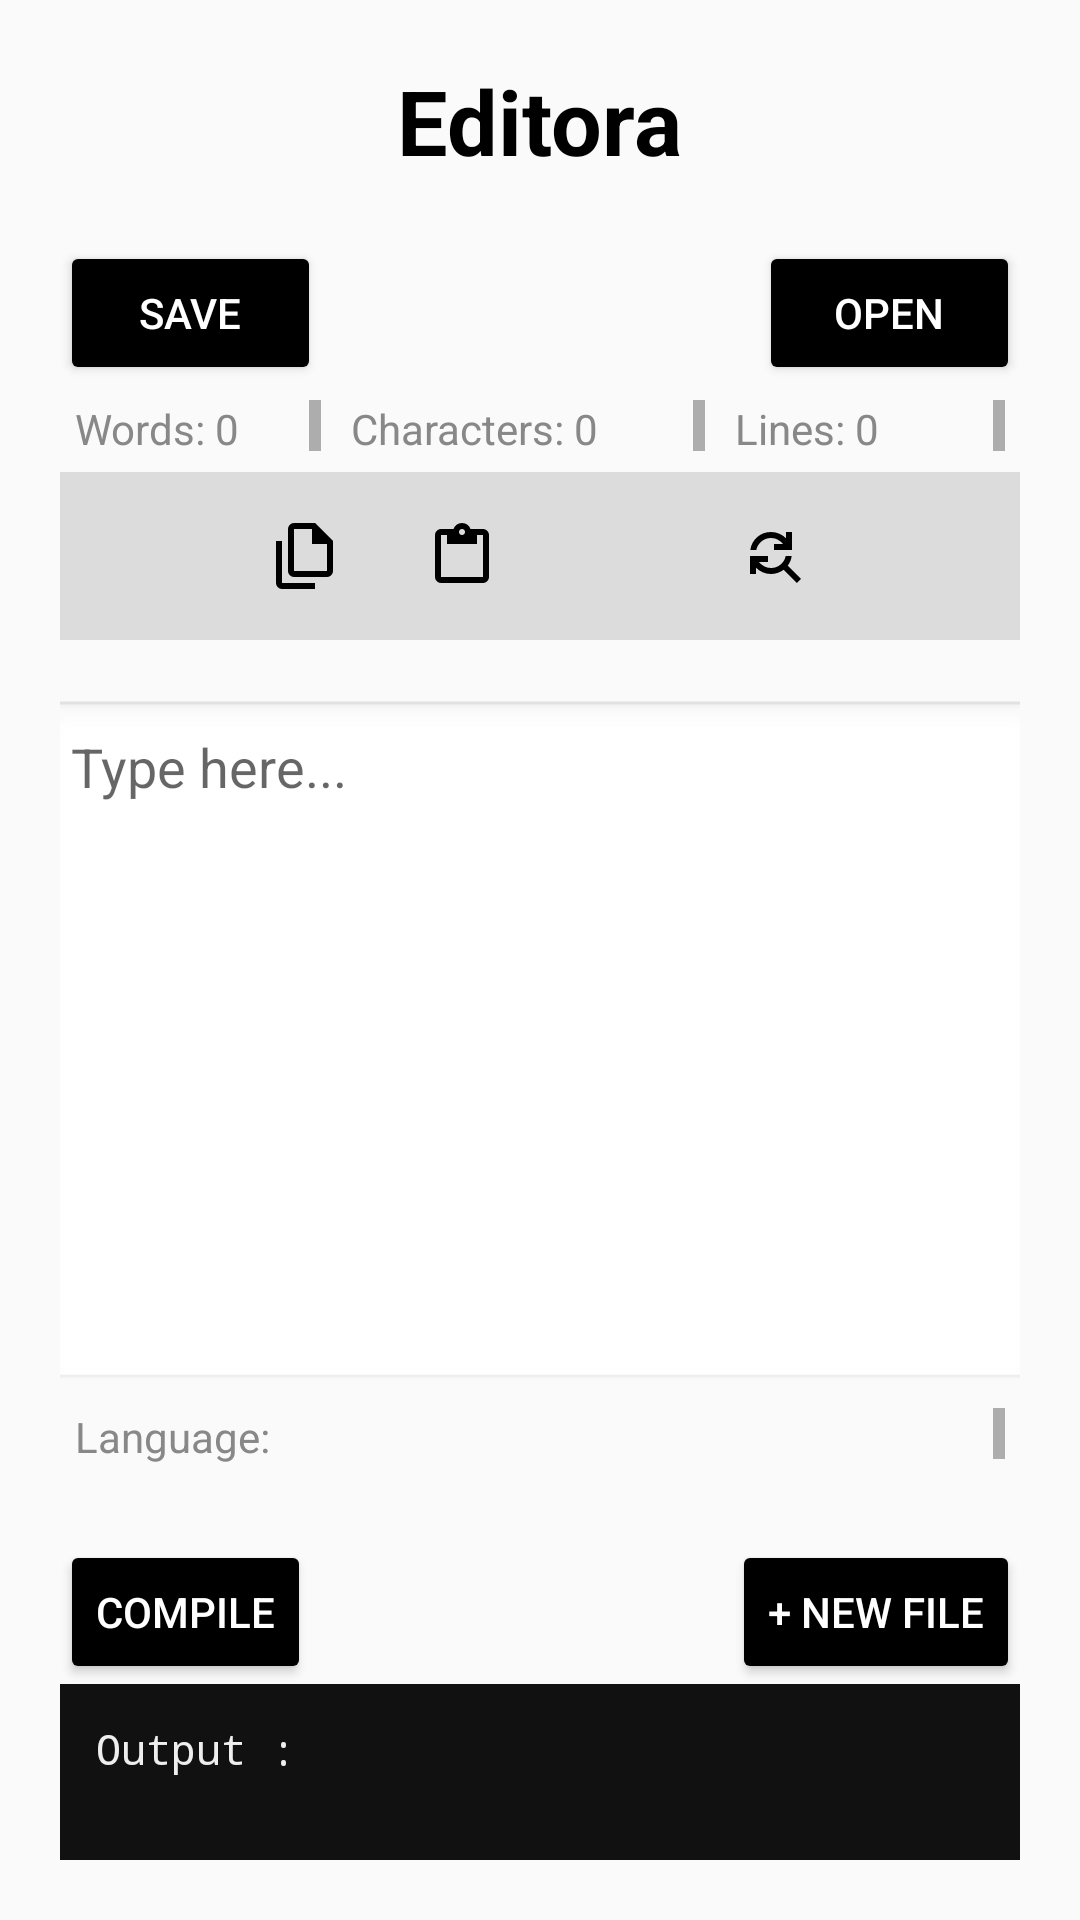

Named icons in this screenshot (1080x1920) and their centers, (x,y):
Copy: (304,556)
findreplace: (775,557)
Paste: (462,553)
